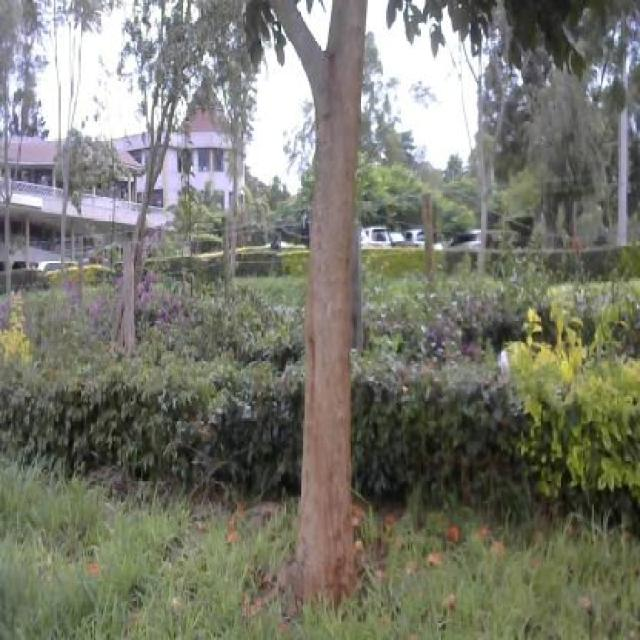tree trunk: (300, 32, 365, 600)
